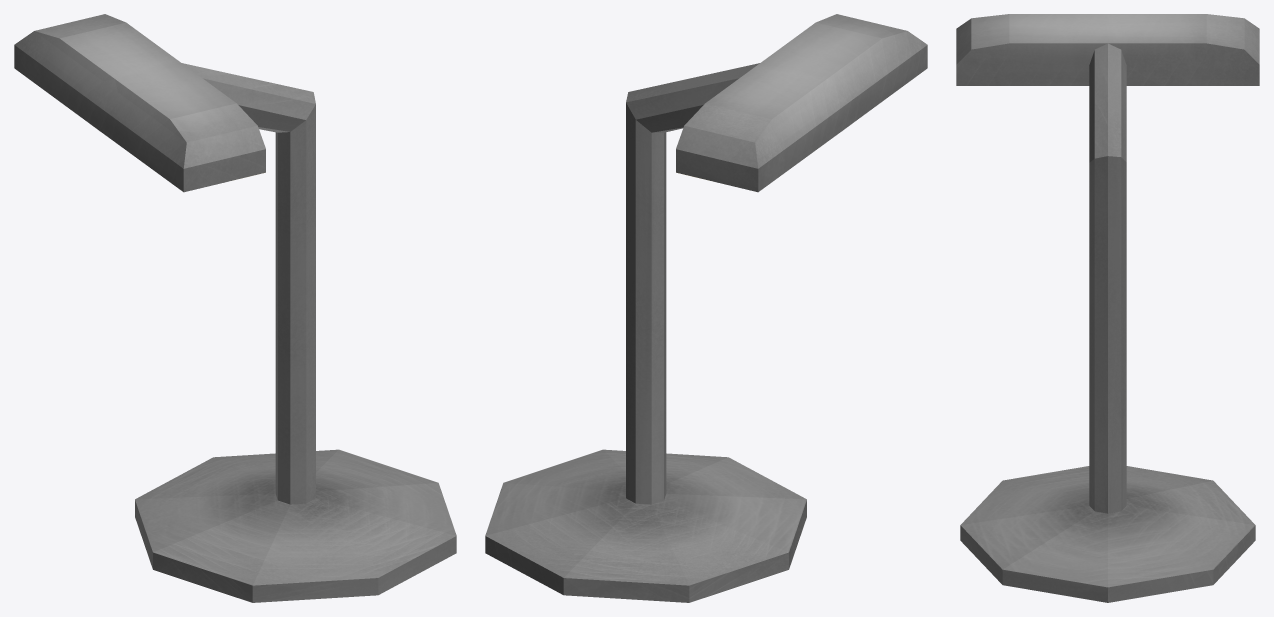
Rendered from desklamp.gltf.
The picture shows the model from 3 angles, left to right: view 1: azimuth 30°, elevation 25°; view 2: azimuth 150°, elevation 25°; view 3: azimuth 270°, elevation 25°; orthographic projection. The views are drawn at different scales.
Visible parts, largest first — view 1: desklamp; view 2: desklamp; view 3: desklamp.
Part boxes in pixels (box(x1,y1,x2,y2)): desklamp: box(14, 14, 456, 602); desklamp: box(485, 14, 927, 602); desklamp: box(956, 14, 1259, 602).
Size of the model in its own units: 0.4266 by 0.6001 by 0.3685.
Materials: 1 (1 with a texture image).
